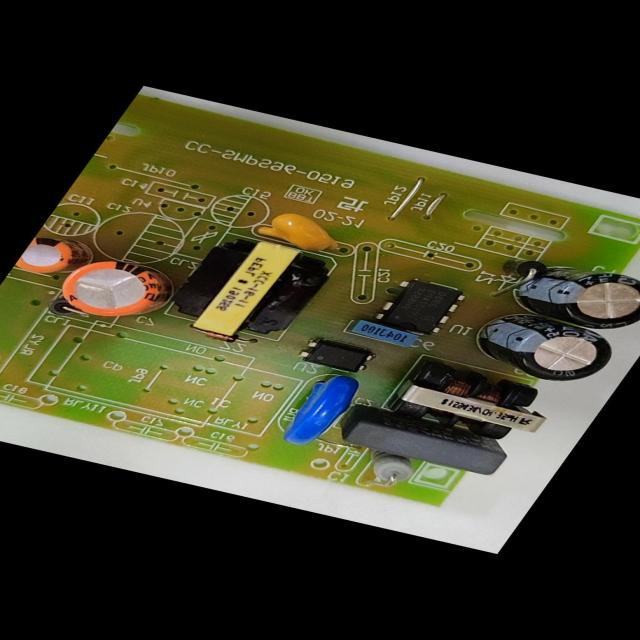Cap1: (42, 248, 193, 332)
Cap2: (10, 233, 88, 282)
Cap3: (441, 301, 635, 394)
Cap4: (480, 248, 640, 339)
MOSFET: (365, 270, 477, 340)
Mov: (256, 366, 372, 454)
Resistor: (357, 452, 420, 488)
Transformer: (150, 229, 344, 353), (370, 354, 578, 453)
